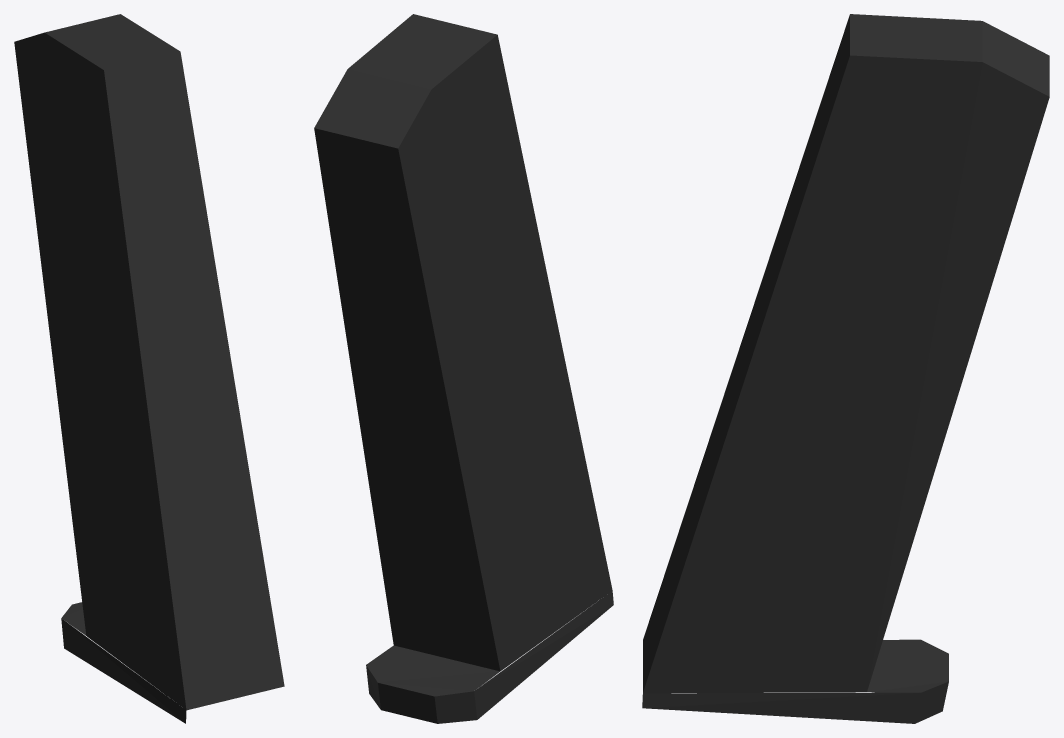
File: 12_9mm_magazine.glb
3 views of the same model, side by side, from view 1: azimuth 30°, elevation 25°; view 2: azimuth 150°, elevation 25°; view 3: azimuth 270°, elevation 25° (orthographic). The views are drawn at different scales.
Parts seen in each view (by area): view 1: 9mm_magazine; view 2: 9mm_magazine; view 3: 9mm_magazine.
Part boxes in pixels (bbox=[...]): 9mm_magazine: bbox=[14, 14, 284, 723]; 9mm_magazine: bbox=[314, 14, 613, 723]; 9mm_magazine: bbox=[642, 14, 1049, 723].
Bounding box in the file's own units: 0.0203 × 0.1162 × 0.0648.
1 material, 1 textured.
